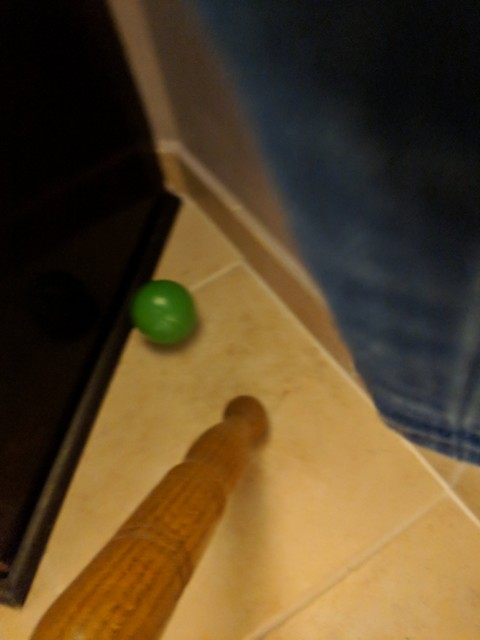ball: (130, 276, 199, 348)
